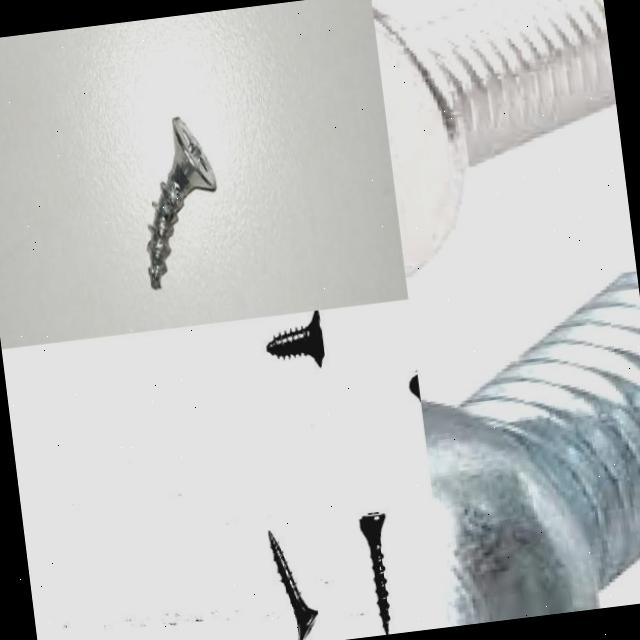Screw: (421, 271, 640, 627), (372, 0, 616, 284), (147, 116, 216, 289), (268, 529, 318, 640), (359, 510, 390, 634), (266, 310, 324, 365)
